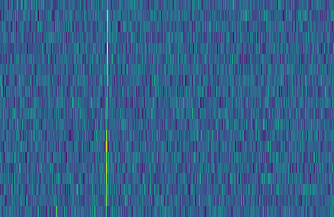signal: (99, 0, 110, 217)
